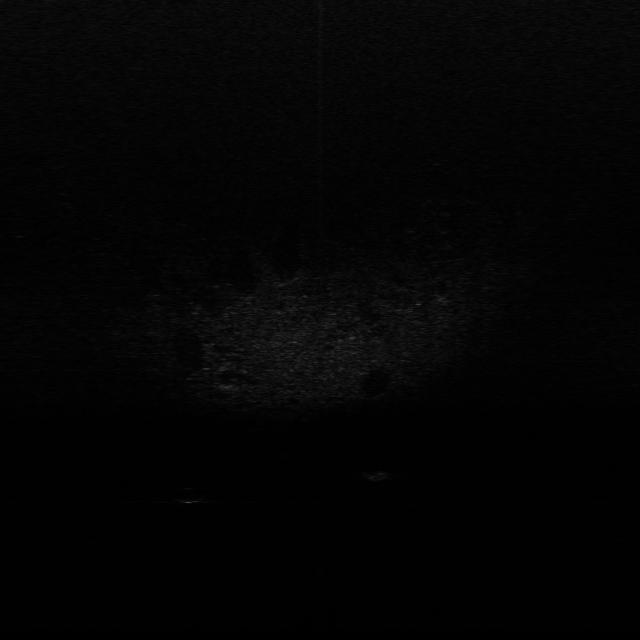ball: (172, 484, 208, 504)
cube: (361, 466, 392, 484)
